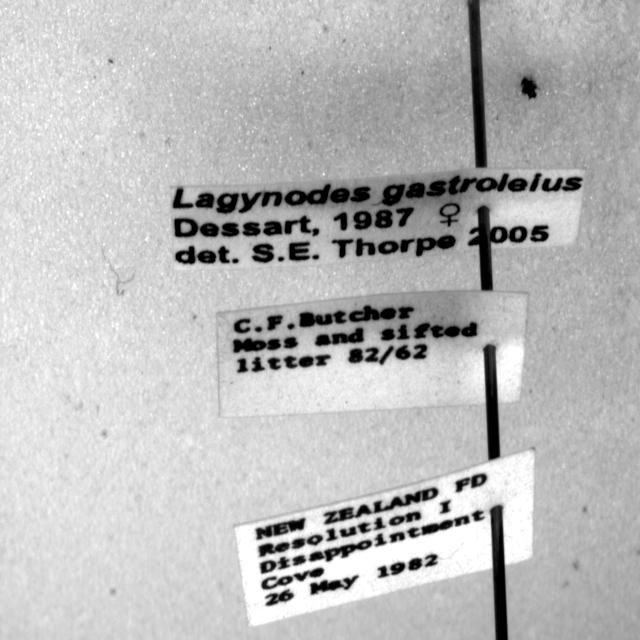typed_label: (235, 450, 535, 626), (172, 167, 585, 270), (218, 291, 528, 416)
